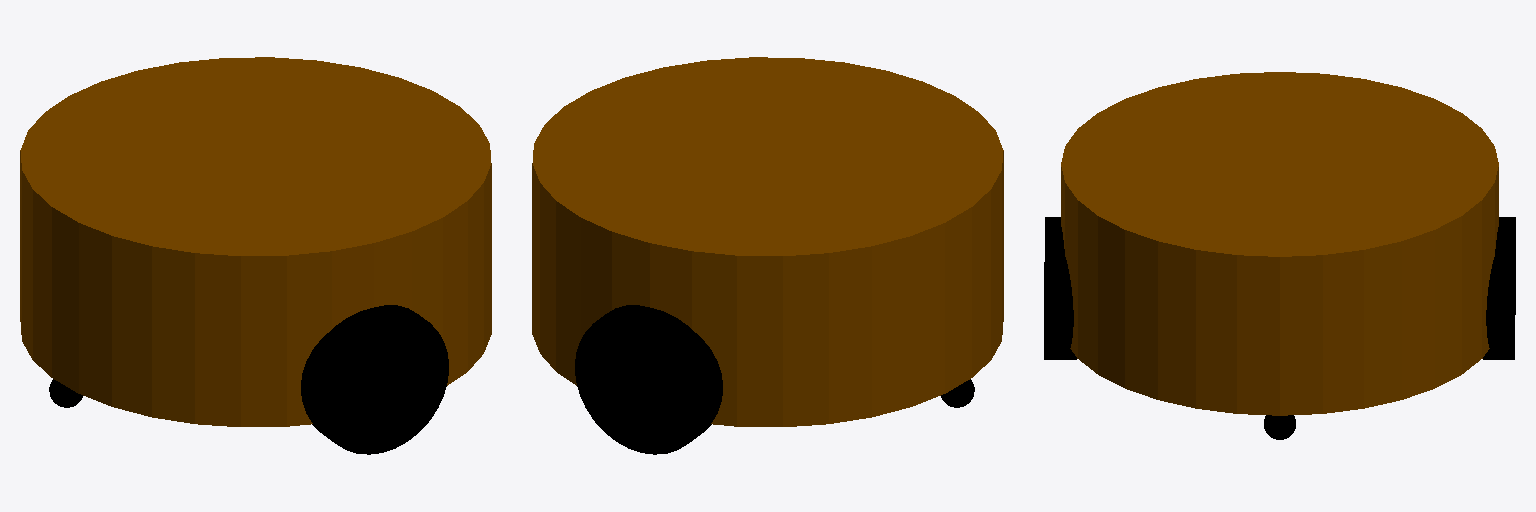
The robot description file, URDF, robot "my_base":
<?xml version="1.0" ?>
<!-- =================================================================================== -->
<!-- |    This document was autogenerated by xacro from test.xacro                     | -->
<!-- |    EDITING THIS FILE BY HAND IS NOT RECOMMENDED                                 | -->
<!-- =================================================================================== -->
<robot name="my_base">
  <!-- 宏:黑色设置 -->
  <material name="black">
    <color rgba="0.0 0.0 0.0 1.0"/>
  </material>
  <!-- 离地间距 -->
  <!-- 底盘 -->
  <link name="base_footprint">
    <visual>
      <geometry>
        <sphere radius="0.001"/>
      </geometry>
    </visual>
  </link>
  <link name="base_link">
    <visual>
      <geometry>
        <cylinder length="0.08" radius="0.1"/>
      </geometry>
      <origin rpy="0 0 0" xyz="0 0 0"/>
      <material name="yellow">
        <color rgba="0.5 0.3 0.0 0.5"/>
      </material>
    </visual>
  </link>
  <joint name="base_link2base_footprint" type="fixed">
    <parent link="base_footprint"/>
    <child link="base_link"/>
    <origin xyz="0 0 0.055"/>
  </joint>
  <link name="left_wheel">
    <visual>
      <geometry>
        <cylinder length="0.015" radius="0.0325"/>
      </geometry>
      <origin rpy="1.5705 0.0 0.0" xyz="0.0 0.0 0.0"/>
      <material name="black"/>
    </visual>
  </link>
  <joint name="left_wheel2base_link" type="continuous">
    <parent link="base_link"/>
    <child link="left_wheel"/>
    <origin xyz="0 0.1 -0.0225"/>
    <axis xyz="0 1 0"/>
  </joint>
  <link name="right_wheel">
    <visual>
      <geometry>
        <cylinder length="0.015" radius="0.0325"/>
      </geometry>
      <origin rpy="1.5705 0.0 0.0" xyz="0.0 0.0 0.0"/>
      <material name="black"/>
    </visual>
  </link>
  <joint name="right_wheel2base_link" type="continuous">
    <parent link="base_link"/>
    <child link="right_wheel"/>
    <origin xyz="0 -0.1 -0.0225"/>
    <axis xyz="0 1 0"/>
  </joint>
  <!-- 支撑轮半径 -->
  <link name="front_wheel">
    <visual>
      <geometry>
        <sphere radius="0.0075"/>
      </geometry>
      <origin rpy="0 0 0" xyz="0 0 0"/>
      <material name="black"/>
    </visual>
  </link>
  <joint name="front_wheel2base_link" type="continuous">
    <parent link="base_link"/>
    <child link="front_wheel"/>
    <origin xyz="0.0925 0 -0.0475"/>
    <axis xyz="1 1 1"/>
  </joint>
  <link name="back_wheel">
    <visual>
      <geometry>
        <sphere radius="0.0075"/>
      </geometry>
      <origin rpy="0 0 0" xyz="0 0 0"/>
      <material name="black"/>
    </visual>
  </link>
  <joint name="back_wheel2base_link" type="continuous">
    <parent link="base_link"/>
    <child link="back_wheel"/>
    <origin xyz="-0.0925 0 -0.0475"/>
    <axis xyz="1 1 1"/>
  </joint>
</robot>

--- Facts derived from the render (not from the file) ---
The picture shows the robot from 3 angles, left to right: view 1: azimuth 30°, elevation 25°; view 2: azimuth 150°, elevation 25°; view 3: azimuth 270°, elevation 25°; orthographic projection.
Robot: my_base — 6 links, 5 joints (4 continuous, 1 fixed); root link base_footprint; default pose: all joints at 0.
Visible links, largest first — view 1: base_link, right_wheel, back_wheel; view 2: base_link, left_wheel, back_wheel; view 3: base_link, right_wheel, left_wheel, front_wheel.
Link boxes in pixels (left/top/right/bottom): base_link: left=20, top=57, right=491, bottom=426; right_wheel: left=301, top=305, right=448, bottom=454; back_wheel: left=49, top=379, right=82, bottom=407; base_link: left=532, top=57, right=1003, bottom=426; left_wheel: left=575, top=305, right=722, bottom=454; back_wheel: left=941, top=379, right=974, bottom=407; base_link: left=1061, top=72, right=1498, bottom=415; right_wheel: left=1044, top=217, right=1076, bottom=359; left_wheel: left=1483, top=217, right=1515, bottom=359; front_wheel: left=1264, top=415, right=1295, bottom=439.
Bounding box of the posed robot: 0.2 × 0.215 × 0.096 m (x, y, z).
Geometry: primitives only (box / cylinder / sphere), no mesh files.
